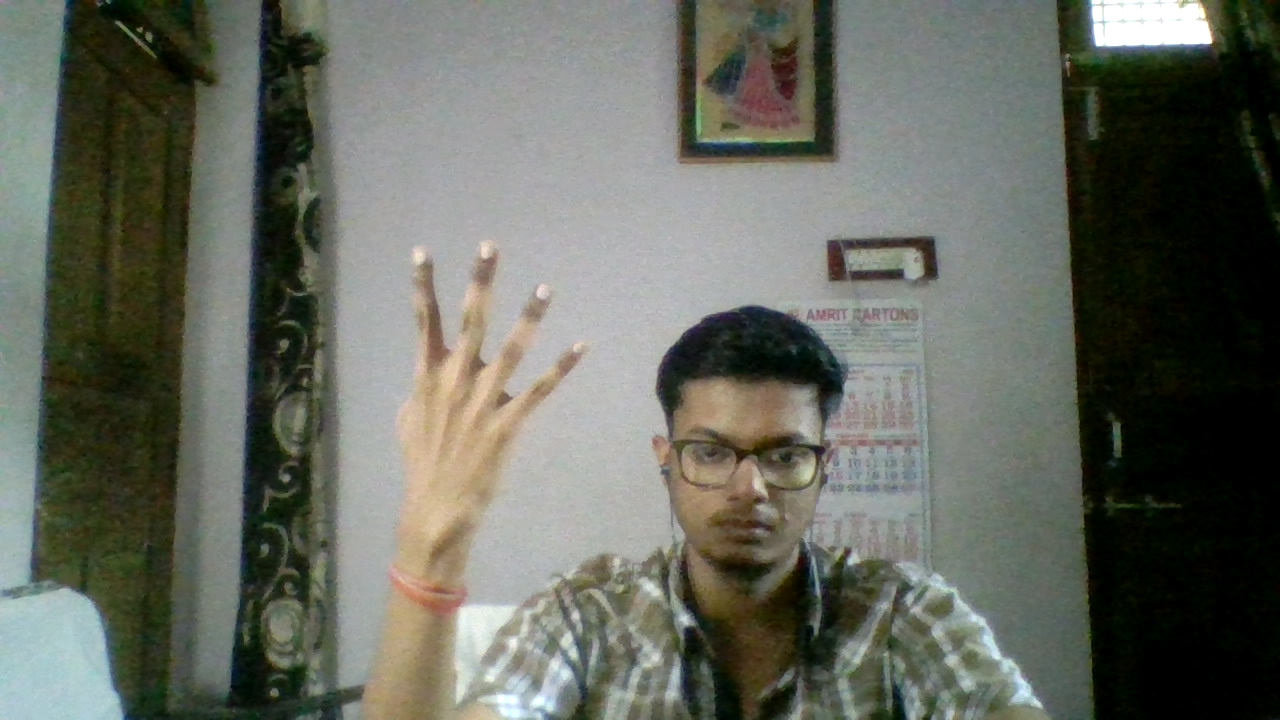four: (382, 194, 588, 565)
